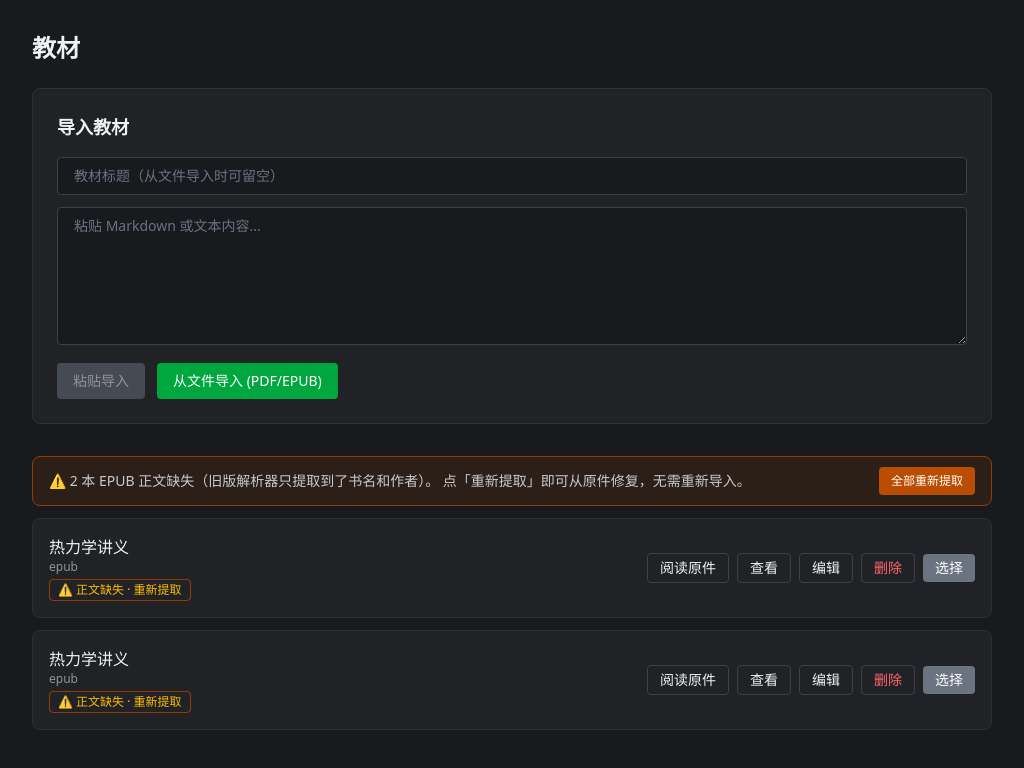
it: TextbooksView — EPUB repair › repairs all missing EPUBs and reports failures
Click the button "全部重新提取" at (927, 481), box [879,467,975,495]
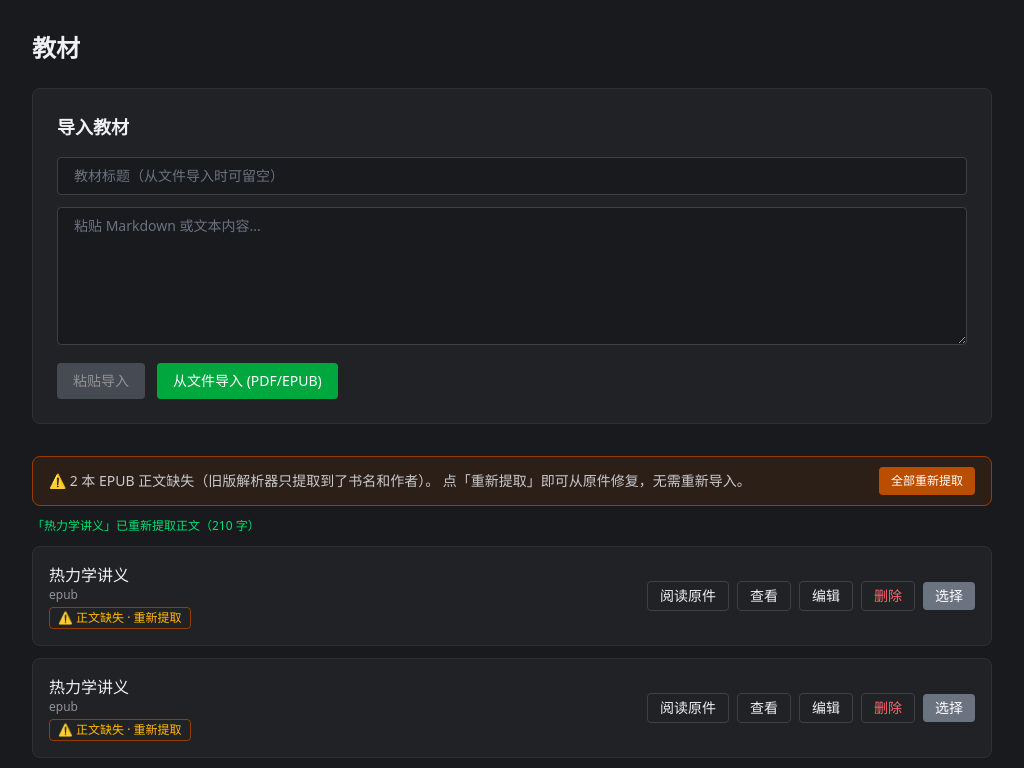
expect the text "「热力学讲义」已重新提取正文（210 字）" is shown: met, box [32,517,260,534]
